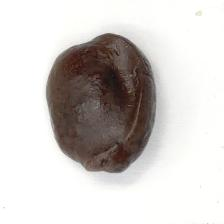NG: (82, 46, 143, 162)
